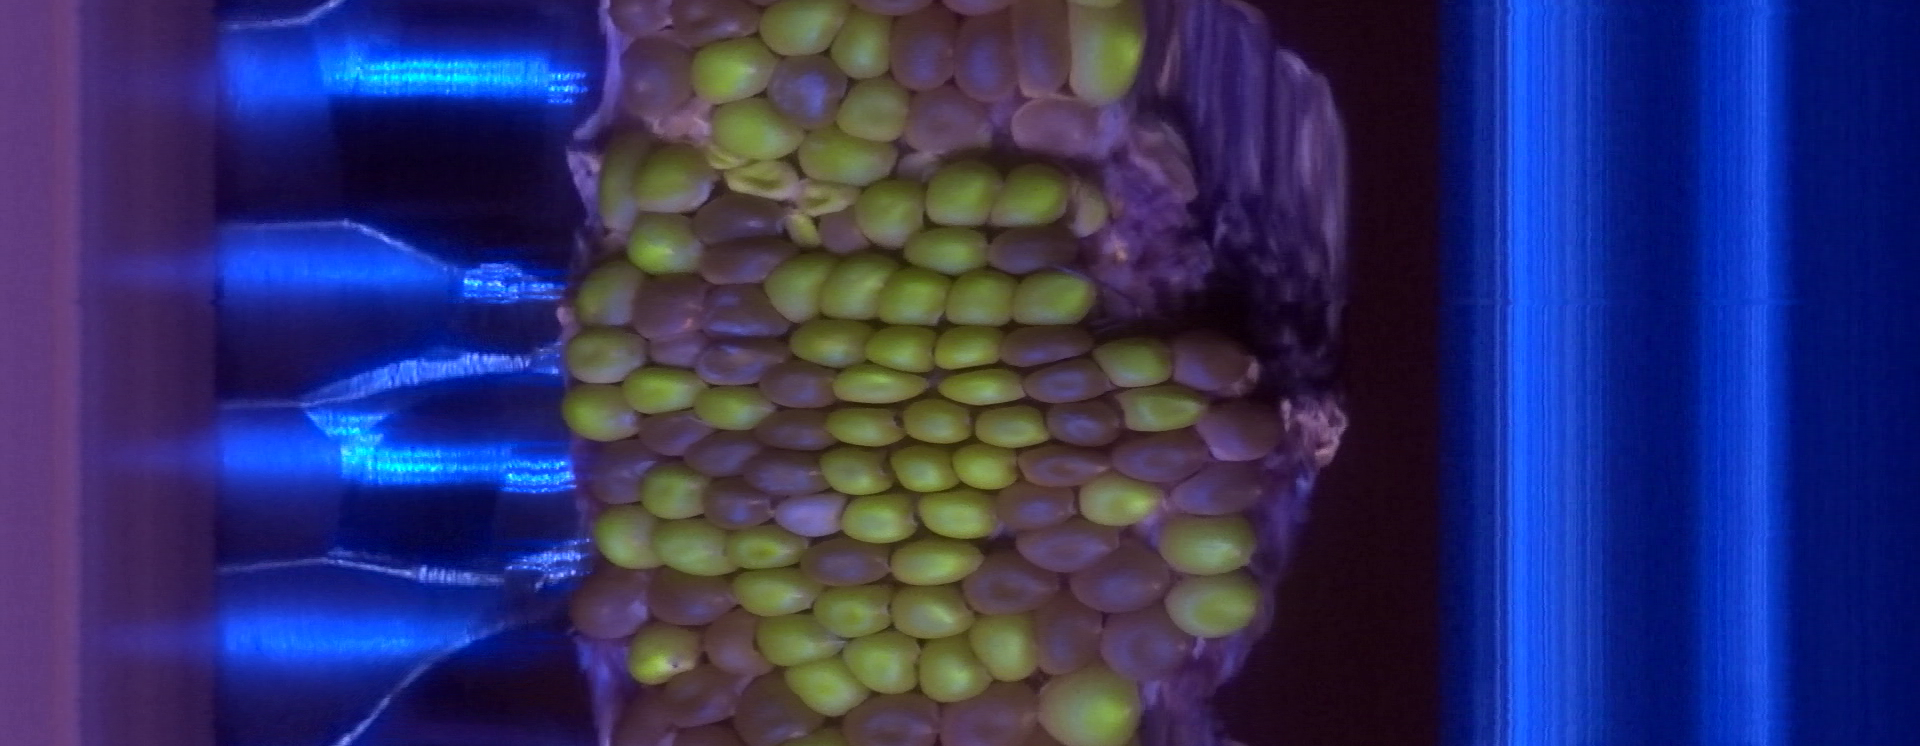fluorescent: (1067, 5, 1146, 103), (1033, 675, 1139, 740), (710, 100, 804, 167), (1153, 518, 1258, 575), (1166, 578, 1259, 639), (842, 627, 924, 695), (987, 162, 1067, 229), (760, 254, 840, 320), (962, 612, 1040, 680), (793, 135, 901, 183), (689, 43, 776, 102), (626, 208, 704, 273), (922, 164, 1003, 227), (598, 138, 651, 230), (912, 642, 989, 706), (818, 258, 898, 320), (856, 180, 926, 250), (633, 153, 714, 213), (779, 663, 872, 713), (1076, 472, 1162, 526), (757, 612, 849, 663), (756, 2, 849, 51), (825, 12, 894, 78), (574, 262, 643, 327), (1112, 388, 1212, 432), (836, 81, 910, 141), (593, 510, 669, 567), (893, 586, 973, 639), (1013, 272, 1097, 323), (891, 543, 984, 589), (626, 628, 700, 686), (733, 570, 823, 617), (563, 390, 640, 443), (653, 523, 731, 576), (569, 332, 648, 383), (947, 269, 1016, 327), (878, 271, 949, 327), (784, 320, 869, 366), (621, 367, 707, 412), (838, 496, 916, 544), (828, 363, 929, 399), (920, 492, 997, 540), (890, 442, 962, 492), (1093, 339, 1172, 385), (813, 589, 891, 635), (900, 229, 980, 273), (642, 464, 711, 514), (724, 529, 809, 570), (820, 448, 894, 495), (825, 404, 909, 445), (973, 405, 1053, 447), (692, 390, 773, 429), (951, 445, 1022, 489), (722, 160, 800, 201), (864, 327, 939, 369), (902, 401, 975, 443), (929, 327, 999, 370), (936, 367, 1025, 401), (798, 180, 861, 212), (786, 207, 820, 249)
nonfluorescent: (1065, 539, 1176, 617), (1024, 584, 1111, 681), (1092, 608, 1199, 686), (726, 669, 833, 744), (617, 27, 700, 121), (958, 548, 1065, 620), (934, 677, 1047, 746), (638, 562, 747, 632), (564, 565, 658, 646), (764, 50, 851, 135), (901, 83, 993, 160), (1009, 516, 1129, 575), (692, 330, 798, 396), (950, 11, 1025, 105), (697, 278, 801, 345), (887, 4, 962, 96), (656, 660, 753, 731), (1164, 328, 1260, 399), (584, 430, 666, 512), (1008, 89, 1093, 168), (693, 233, 804, 290), (1194, 397, 1291, 463), (1010, 1, 1074, 102), (1168, 458, 1270, 521), (696, 601, 775, 681), (833, 690, 944, 746), (629, 268, 711, 343), (1109, 429, 1213, 488), (796, 533, 900, 588), (689, 191, 789, 249), (740, 443, 833, 503), (984, 222, 1085, 277), (1015, 442, 1118, 494), (680, 425, 767, 484), (996, 322, 1104, 369), (991, 481, 1082, 537), (1040, 396, 1129, 452), (1015, 356, 1119, 404), (754, 356, 844, 412), (602, 684, 680, 746), (699, 472, 778, 533), (667, 1, 765, 49), (753, 402, 840, 454), (636, 407, 720, 461), (767, 490, 851, 540), (814, 206, 876, 258), (644, 330, 715, 374), (604, 1, 676, 40)
